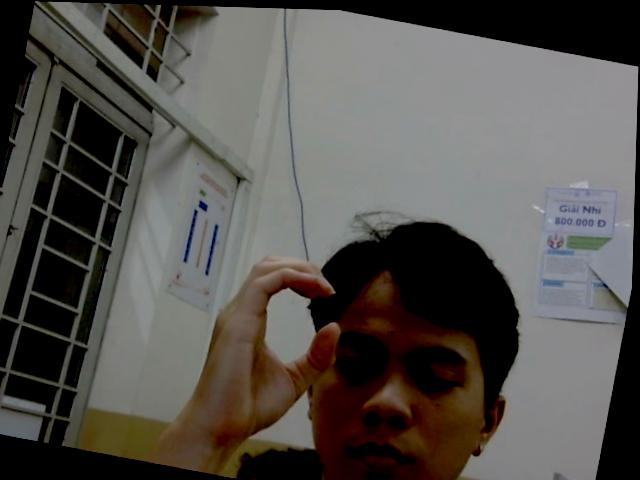C: (186, 240, 355, 452)
